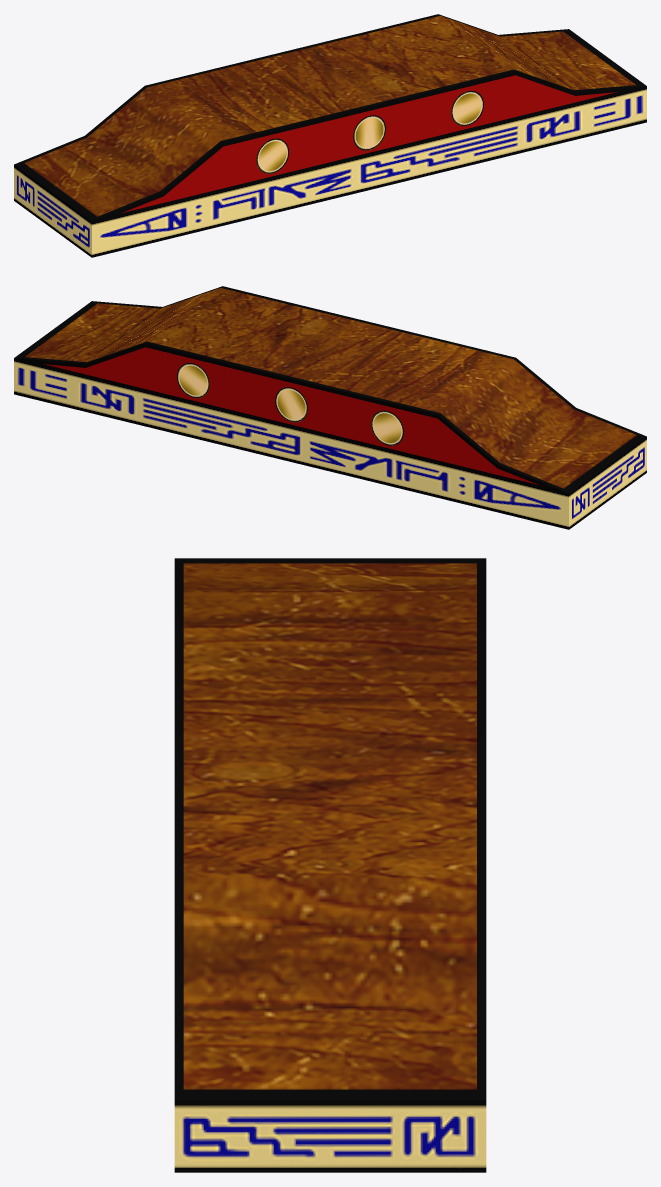
File: jungle_stepslope.gltf
The picture shows the model from 3 angles, top to bottom: view 1: azimuth 30°, elevation 25°; view 2: azimuth 150°, elevation 25°; view 3: azimuth 270°, elevation 25°; orthographic projection. The views are drawn at different scales.
Visible parts, largest first — view 1: jungle_stepslope_glb; view 2: jungle_stepslope_glb; view 3: jungle_stepslope_glb.
Part boxes in pixels (x1=…): jungle_stepslope_glb: x1=14, y1=14, x2=646, y2=257; jungle_stepslope_glb: x1=14, y1=286, x2=646, y2=529; jungle_stepslope_glb: x1=174, y1=558, x2=486, y2=1172.
Size of what is drawn, in the model's own units: 4 by 0.5727 by 0.9795.
Materials: 2 (2 with a texture image).
